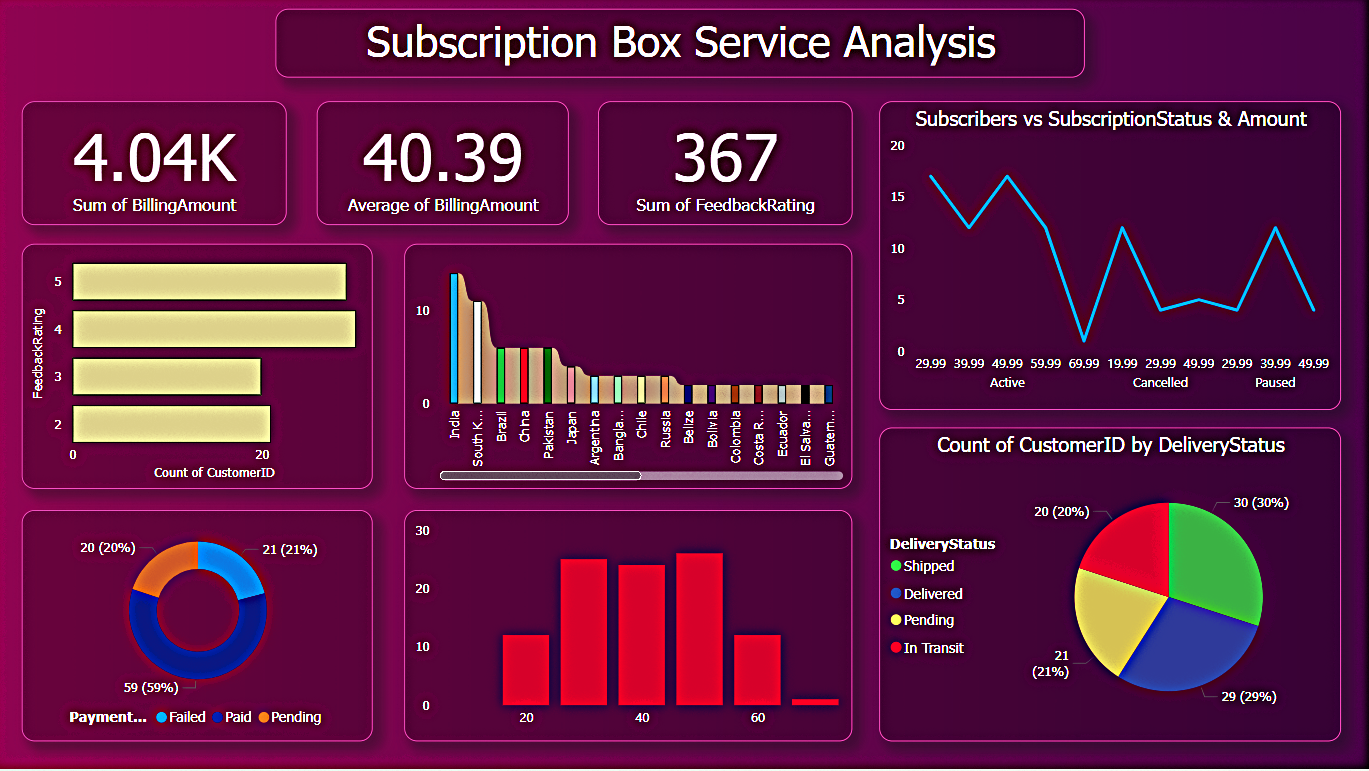

What the dashboard file says about the page in this screenshot:
{"tool":"powerbi","page":{"name":"TAE-I","canvas":[1280,720],"ordinal":0},"visuals":[{"type":"textbox","title":"Subscription Box Service Analysis","box":[263,13.2,752.9,63.6],"z":0},{"type":"card","fields":{"Values":["Sum(subscribers_data.BillingAmount)"]},"box":[26.4,98.5,246.2,115.3],"z":1000},{"type":"card","fields":{"Values":["Sum(subscribers_data.FeedbackRating)"]},"box":[563.2,98.5,236.5,115.3],"z":2000},{"type":"card","fields":{"Values":["Avg(subscribers_data.BillingAmount)"]},"box":[301.4,98.5,234.1,115.3],"z":3000},{"type":"columnChart","fields":{"Y":["CountNonNull(subscribers_data.SubscriberID)"],"Category":["subscribers_data.BillingAmount"]},"box":[383,479.1,416.7,214.9],"z":4000},{"type":"donutChart","fields":{"Y":["CountNonNull(subscribers_data.SubscriberID)"],"Series":["subscribers_data.PaymentStatus"]},"box":[26.4,479.1,326.6,214.9],"z":5000},{"type":"pieChart","fields":{"Category":["subscribers_data.DeliveryStatus"],"Y":["CountNonNull(subscribers_data.CustomerID)"]},"box":[824.9,402.3,429.9,291.8],"z":6000},{"type":"clusteredBarChart","fields":{"Category":["subscribers_data.FeedbackRating"],"Y":["CountNonNull(subscribers_data.CustomerID)"]},"box":[26.4,231.7,326.6,228.1],"z":7000},{"type":"lineChart","title":"Subscribers vs SubscriptionStatus & Amount","fields":{"Y":["CountNonNull(subscribers_data.SubscriberID)"],"Category":["subscribers_data.SubscriptionStatus","subscribers_data.BillingAmount"]},"box":[824.9,98.5,429.9,287],"z":8000},{"type":"ribbonChart","fields":{"Category":["subscribers_data.CustomerCountry"],"Y":["CountNonNull(subscribers_data.SubscriberID)"]},"box":[383,231.7,416.7,228.1],"z":9000}]}

Visuals, with their boxes in screenshot pixels (x1, y1, x2, y2), scaled from the page's 1280x720 canvas onto the 1369x771 screenshot:
"Subscription Box Service Analysis" textbox: region(281, 14, 1087, 82)
card - Sum(subscribers_data.BillingAmount): region(28, 105, 292, 229)
card - Sum(subscribers_data.FeedbackRating): region(602, 105, 855, 229)
card - Avg(subscribers_data.BillingAmount): region(322, 105, 573, 229)
columnChart - CountNonNull(subscribers_data.SubscriberID) x subscribers_data.BillingAmount: region(410, 513, 855, 743)
donutChart - CountNonNull(subscribers_data.SubscriberID) x subscribers_data.PaymentStatus: region(28, 513, 378, 743)
pieChart - subscribers_data.DeliveryStatus x CountNonNull(subscribers_data.CustomerID): region(882, 431, 1342, 743)
clusteredBarChart - subscribers_data.FeedbackRating x CountNonNull(subscribers_data.CustomerID): region(28, 248, 378, 492)
"Subscribers vs SubscriptionStatus & Amount" lineChart: region(882, 105, 1342, 413)
ribbonChart - subscribers_data.CustomerCountry x CountNonNull(subscribers_data.SubscriberID): region(410, 248, 855, 492)
